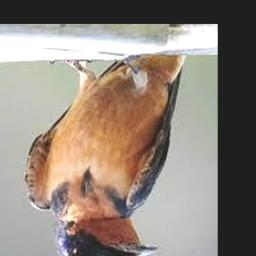Swallow: (24, 54, 185, 256)
